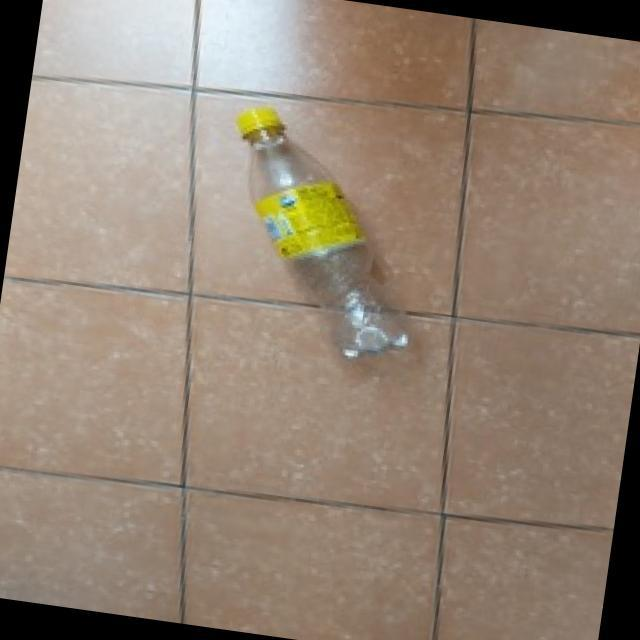good: (203, 74, 444, 382)
